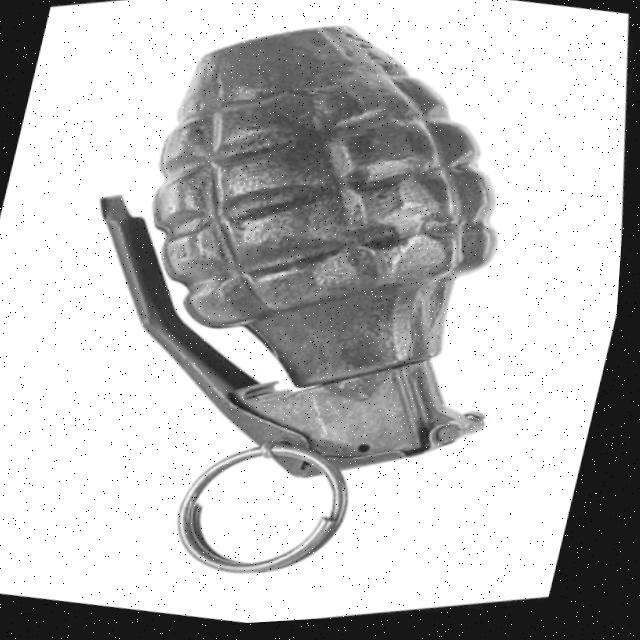grenade: (0, 0, 611, 640)
